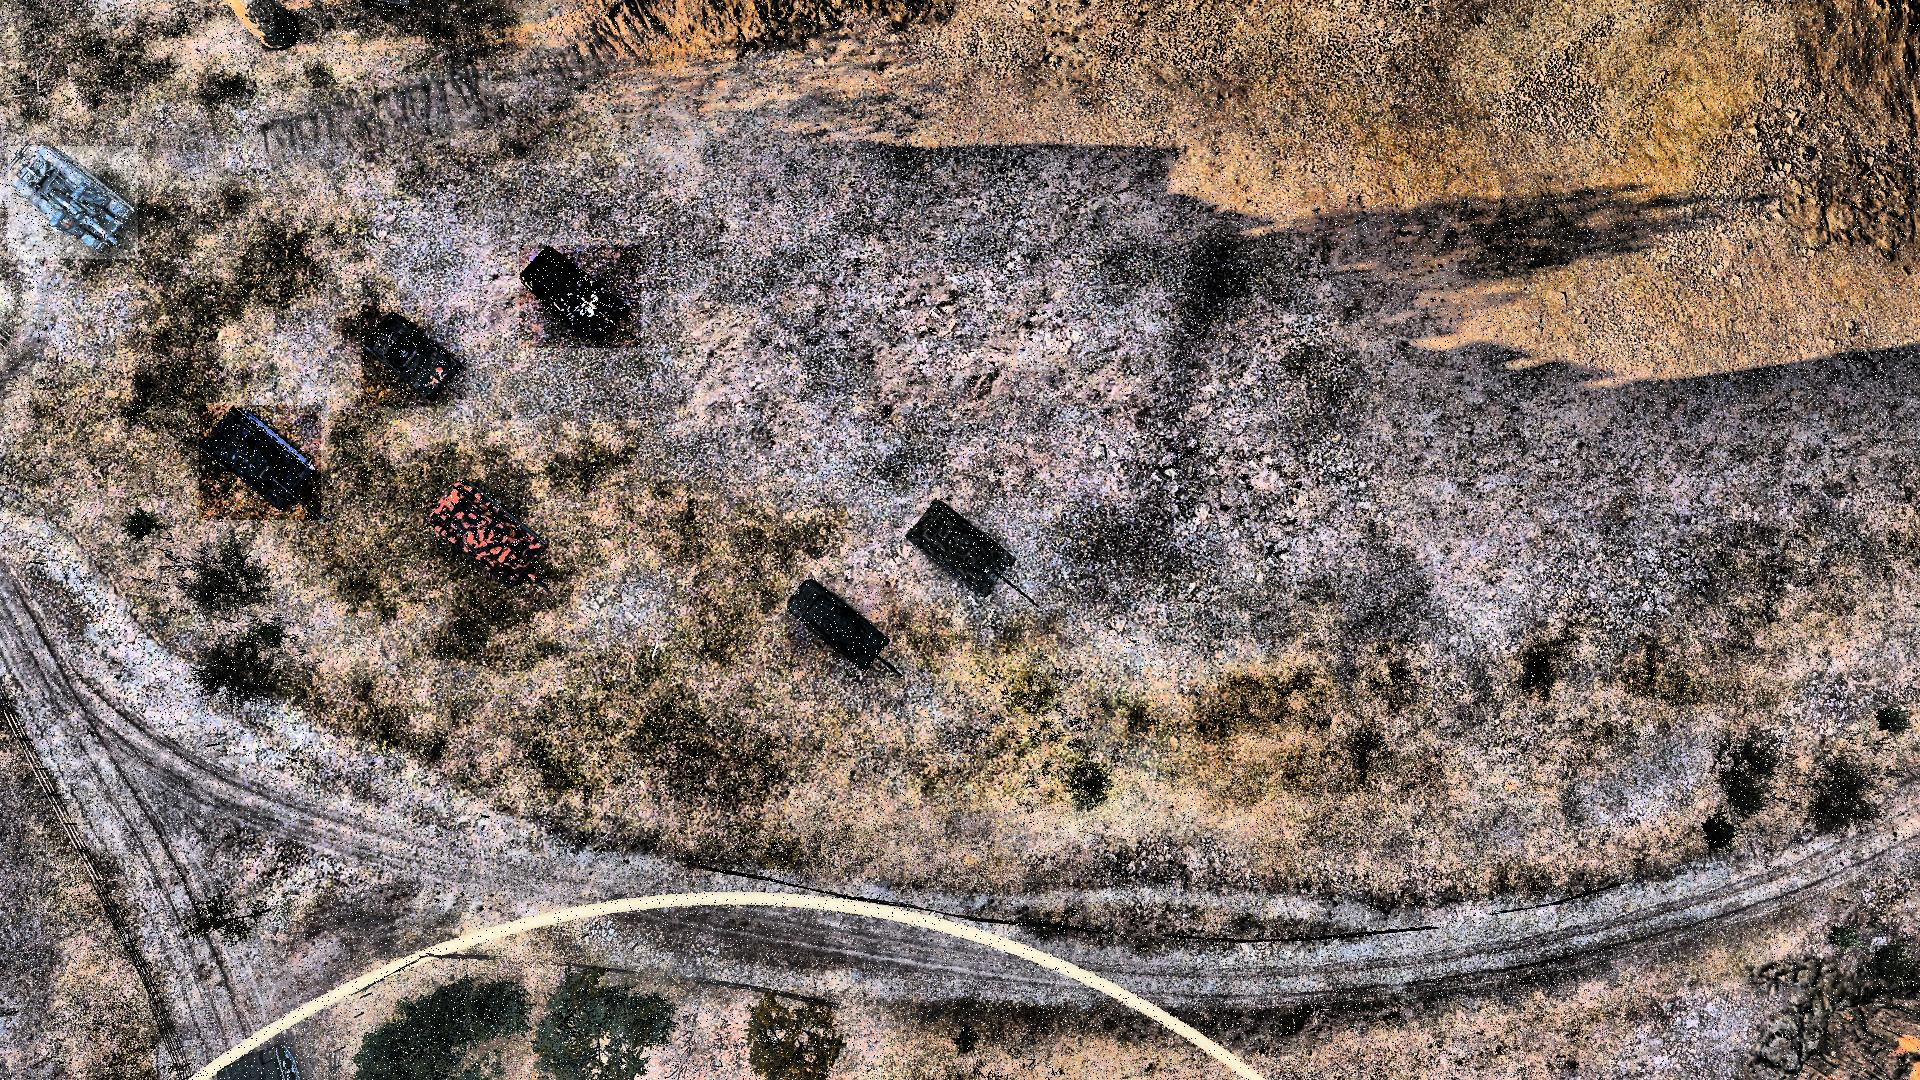military-vehicle: (8, 146, 138, 260), (429, 480, 551, 597), (200, 405, 322, 520), (903, 501, 1036, 601), (520, 245, 642, 348), (785, 580, 899, 678), (361, 307, 467, 406)
